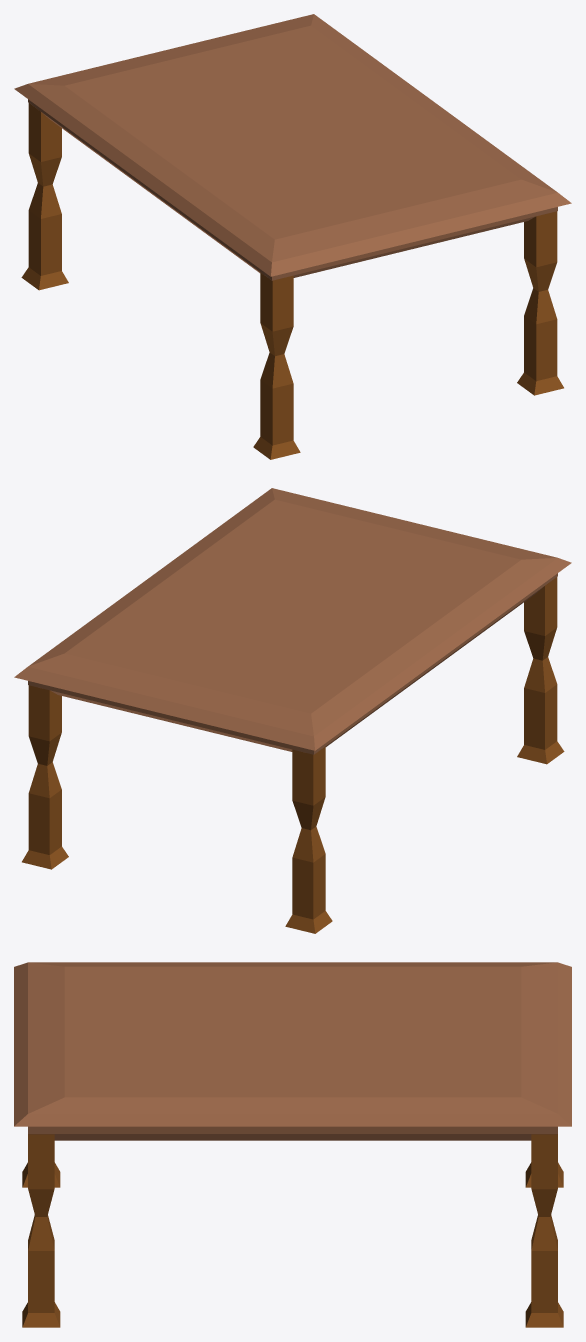
The model's file is Table.fbx.
3 renders of one model, top to bottom at view 1: azimuth 30°, elevation 25°; view 2: azimuth 150°, elevation 25°; view 3: azimuth 270°, elevation 25°, orthographic. The views are drawn at different scales.
Parts seen in each view (by area): view 1: Cube.005, Cube.004; view 2: Cube.005, Cube.004; view 3: Cube.005, Cube.004.
Boxes of the visible parts, x1=… form: Cube.005: x1=14, y1=14, x2=571, y2=280; Cube.004: x1=21, y1=103, x2=563, y2=459; Cube.005: x1=14, y1=488, x2=571, y2=754; Cube.004: x1=22, y1=577, x2=564, y2=933; Cube.005: x1=14, y1=962, x2=571, y2=1140; Cube.004: x1=22, y1=1134, x2=563, y2=1327.
Size of the model in its own units: 713 by 454 by 1054.
